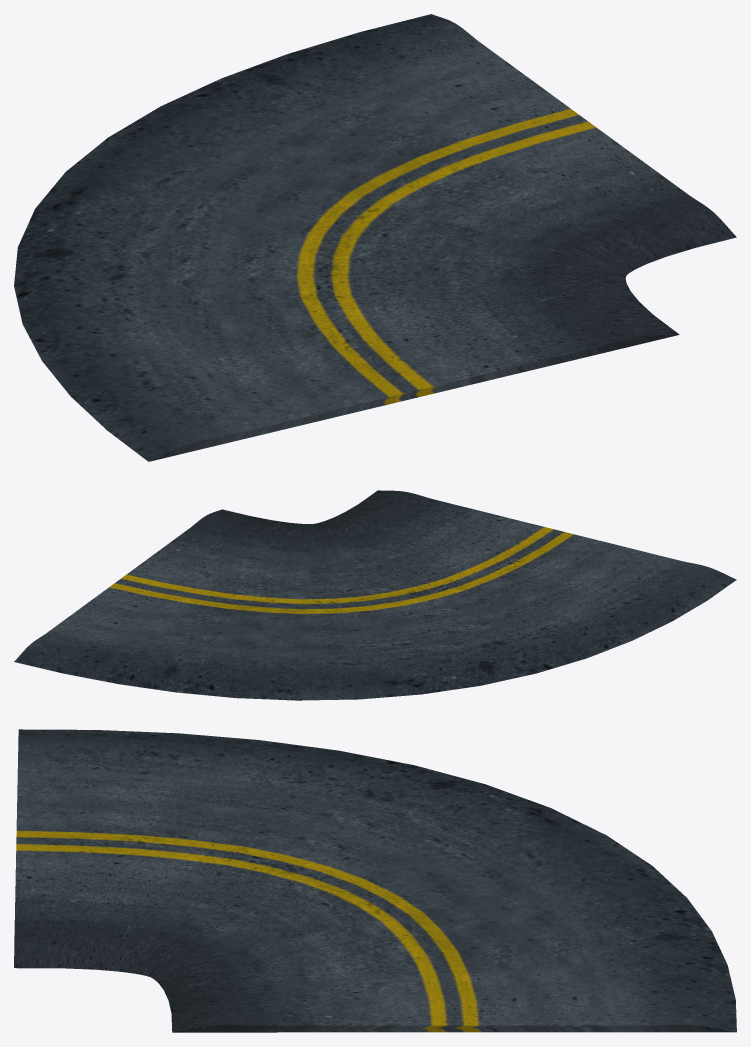
The picture shows the model from 3 angles, top to bottom: view 1: azimuth 30°, elevation 25°; view 2: azimuth 150°, elevation 25°; view 3: azimuth 270°, elevation 25°; orthographic projection. The views are drawn at different scales.
Parts seen in each view (by area): view 1: Line005; view 2: Line005; view 3: Line005.
Part boxes in pixels (x1,y1,x2,y2): Line005: (14, 14, 736, 461); Line005: (14, 490, 736, 700); Line005: (14, 729, 736, 1032).
Size of the model in its own units: 825 by 9.99 by 832.
Materials: 1 (1 with a texture image).
